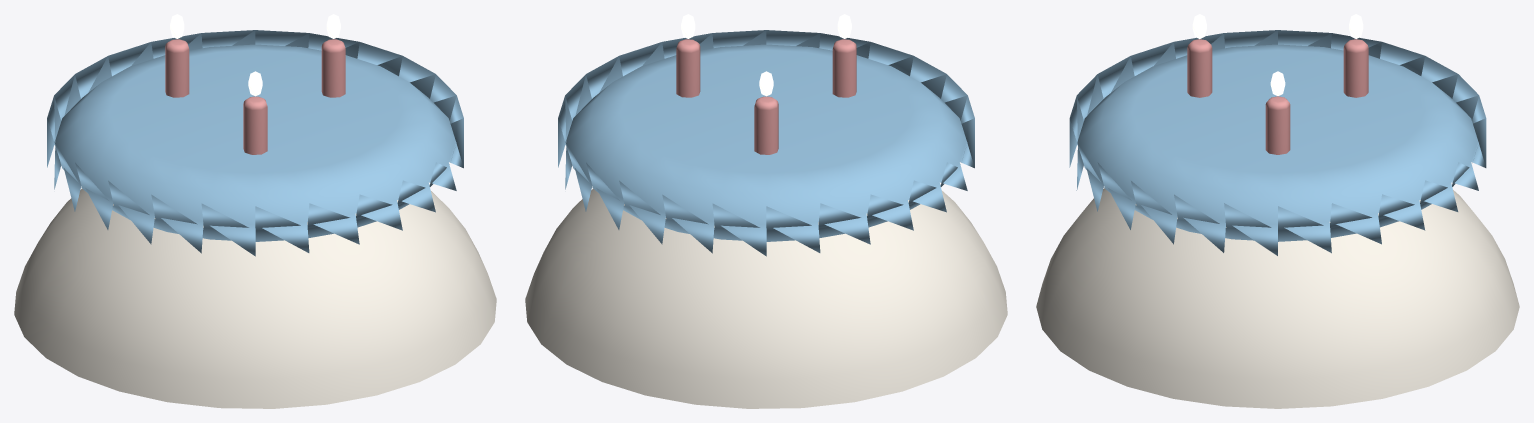
Rendered from birthday_hat.glb.
3 views of the same model, side by side, from view 1: azimuth 30°, elevation 25°; view 2: azimuth 150°, elevation 25°; view 3: azimuth 270°, elevation 25° (orthographic).
Visible parts, largest first — view 1: birthday_hat_Head; view 2: birthday_hat_Head; view 3: birthday_hat_Head.
Part boxes in pixels (<box>): birthday_hat_Head: <box>14,14,496,408</box>; birthday_hat_Head: <box>525,14,1007,408</box>; birthday_hat_Head: <box>1036,14,1519,408</box>.
Bounding box in the file's own units: 0.6966 × 0.4381 × 0.6966.
